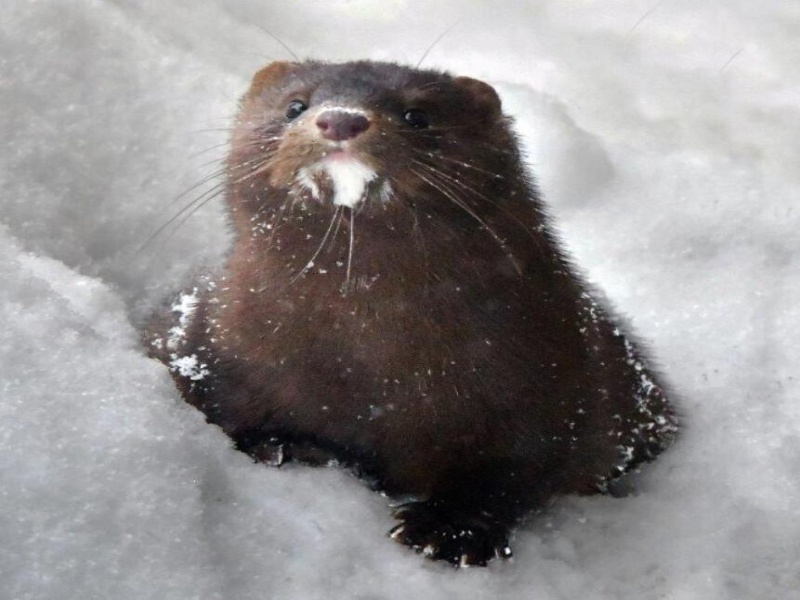minkish: (140, 49, 683, 573)
